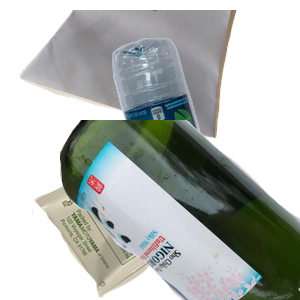glass: (60, 120, 300, 300)
paper: (17, 10, 254, 141)
plastic: (110, 36, 300, 216)
trash: (29, 124, 238, 300)
